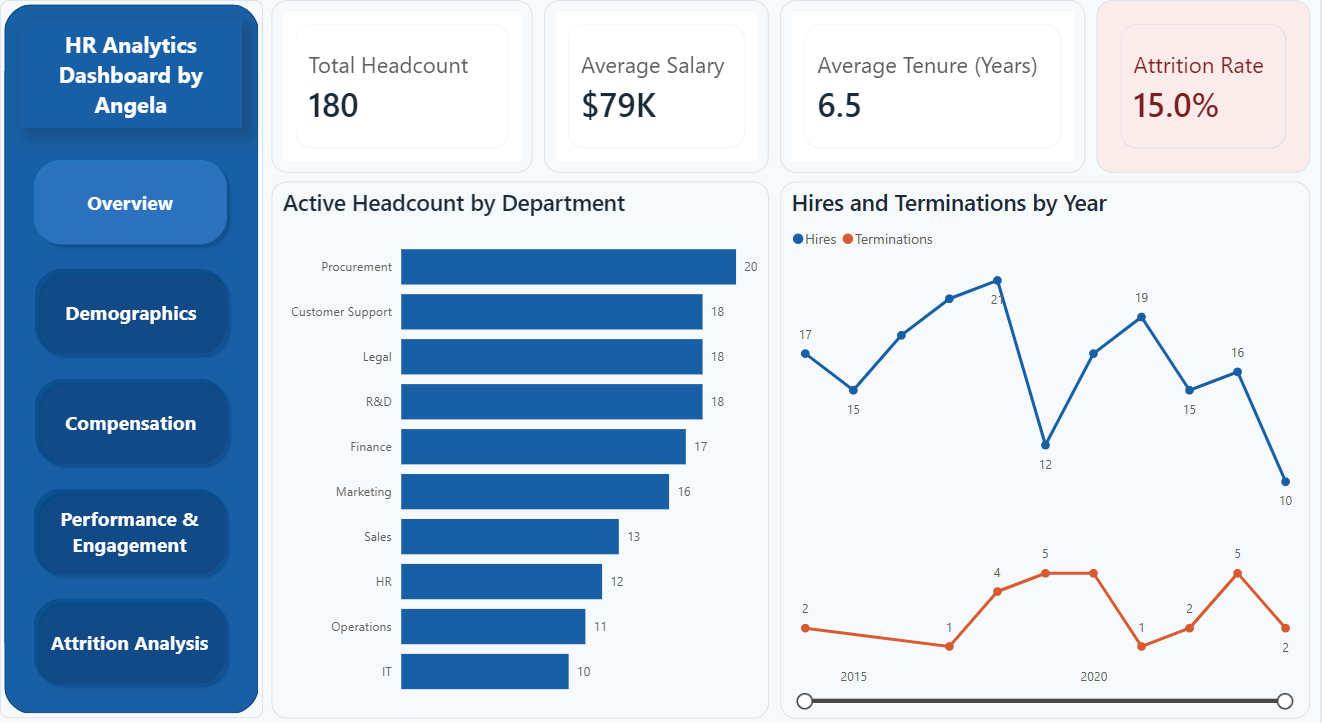

The dashboard page shown, as its layout file describes it:
{"tool":"powerbi","page":{"name":"Overview","canvas":[1280,720],"ordinal":1},"visuals":[{"type":"cardVisual","fields":{"Data":["HR_Raw_Data.Total Headcount"]},"box":[267.8,15.7,252.1,166.5],"z":0},{"type":"cardVisual","fields":{"Data":["HR_Raw_Data.Average Salary"]},"box":[530.8,15.7,217.2,166.5],"z":1000},{"type":"cardVisual","fields":{"Data":["HR_Raw_Data.Attrition Rate"]},"box":[1064.1,15.7,206.3,166.5],"z":2000},{"type":"cardVisual","title":"Avg Tenure (Years)","fields":{"Data":["HR_Raw_Data.Average Tenure"]},"box":[758.9,15.7,294.4,166.5],"z":3000},{"type":"shape","box":[6,15.7,253.4,692.5],"z":4000},{"type":"actionButton","box":[31.4,162.9,200.3,95.3],"z":5000},{"type":"actionButton","box":[32.6,267.8,199.1,96.5],"z":6000},{"type":"actionButton","box":[32.6,374,199.1,96.5],"z":7000},{"type":"actionButton","box":[31.4,480.2,199.1,96.5],"z":8000},{"type":"actionButton","box":[31.4,586.3,199.1,96.5],"z":9000},{"type":"lineChart","fields":{"Category":["DimDate.Year"],"Y":["HR_Raw_Data.Hires","HR_Raw_Data.Terminations"]},"box":[758.9,190.6,511.5,518.8],"z":10000},{"type":"clusteredBarChart","fields":{"Category":["HR_Raw_Data.Department"],"Y":["HR_Raw_Data.Active Headcount"]},"box":[267.8,190.6,480.2,518.8],"z":11000},{"type":"actionButton","box":[25.3,33.8,213.5,105],"z":12000}]}

Visuals, with their boxes in screenshot pixels (x1, y1, x2, y2), scaled from the page's 1280x720 canvas onto the 1322x723 screenshot:
cardVisual - HR_Raw_Data.Total Headcount: {"left": 277, "top": 16, "right": 537, "bottom": 183}
cardVisual - HR_Raw_Data.Average Salary: {"left": 548, "top": 16, "right": 773, "bottom": 183}
cardVisual - HR_Raw_Data.Attrition Rate: {"left": 1099, "top": 16, "right": 1312, "bottom": 183}
"Avg Tenure (Years)" cardVisual: {"left": 784, "top": 16, "right": 1088, "bottom": 183}
shape: {"left": 6, "top": 16, "right": 268, "bottom": 711}
actionButton: {"left": 32, "top": 164, "right": 239, "bottom": 259}
actionButton: {"left": 34, "top": 269, "right": 239, "bottom": 366}
actionButton: {"left": 34, "top": 376, "right": 239, "bottom": 472}
actionButton: {"left": 32, "top": 482, "right": 238, "bottom": 579}
actionButton: {"left": 32, "top": 589, "right": 238, "bottom": 686}
lineChart - DimDate.Year x HR_Raw_Data.Hires: {"left": 784, "top": 191, "right": 1312, "bottom": 712}
clusteredBarChart - HR_Raw_Data.Department x HR_Raw_Data.Active Headcount: {"left": 277, "top": 191, "right": 773, "bottom": 712}
actionButton: {"left": 26, "top": 34, "right": 247, "bottom": 139}
